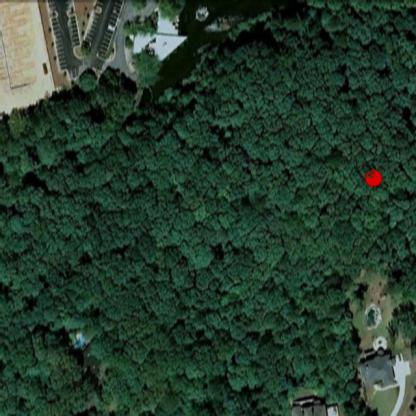N: (367, 169, 375, 180)
circle: (363, 167, 382, 188)
